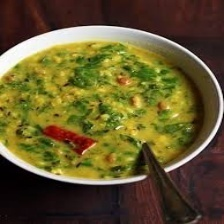sabzi: (0, 39, 205, 179)
